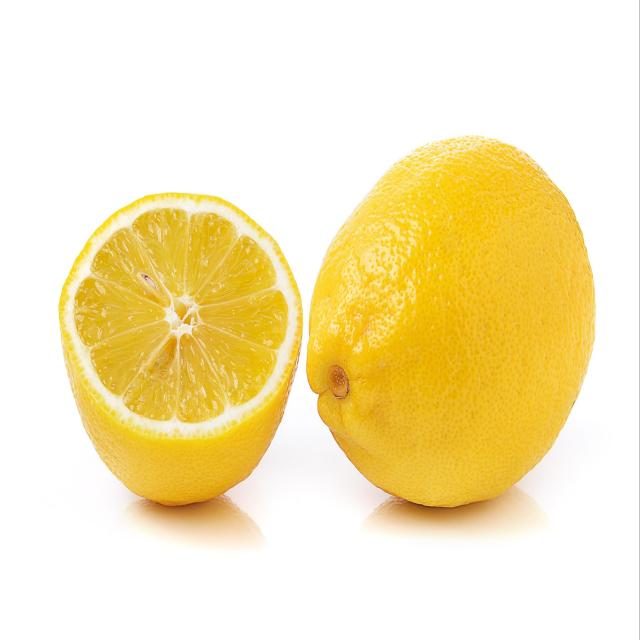lemon: (298, 123, 605, 518), (55, 182, 311, 512)
